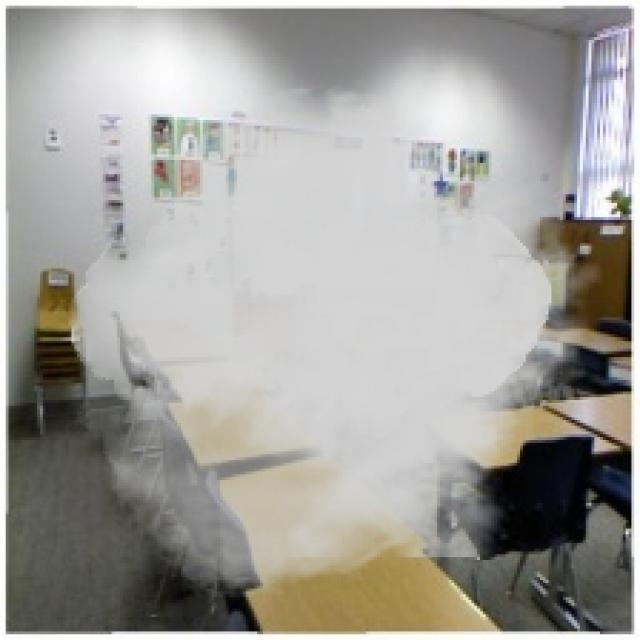smoke: (69, 80, 606, 603)
